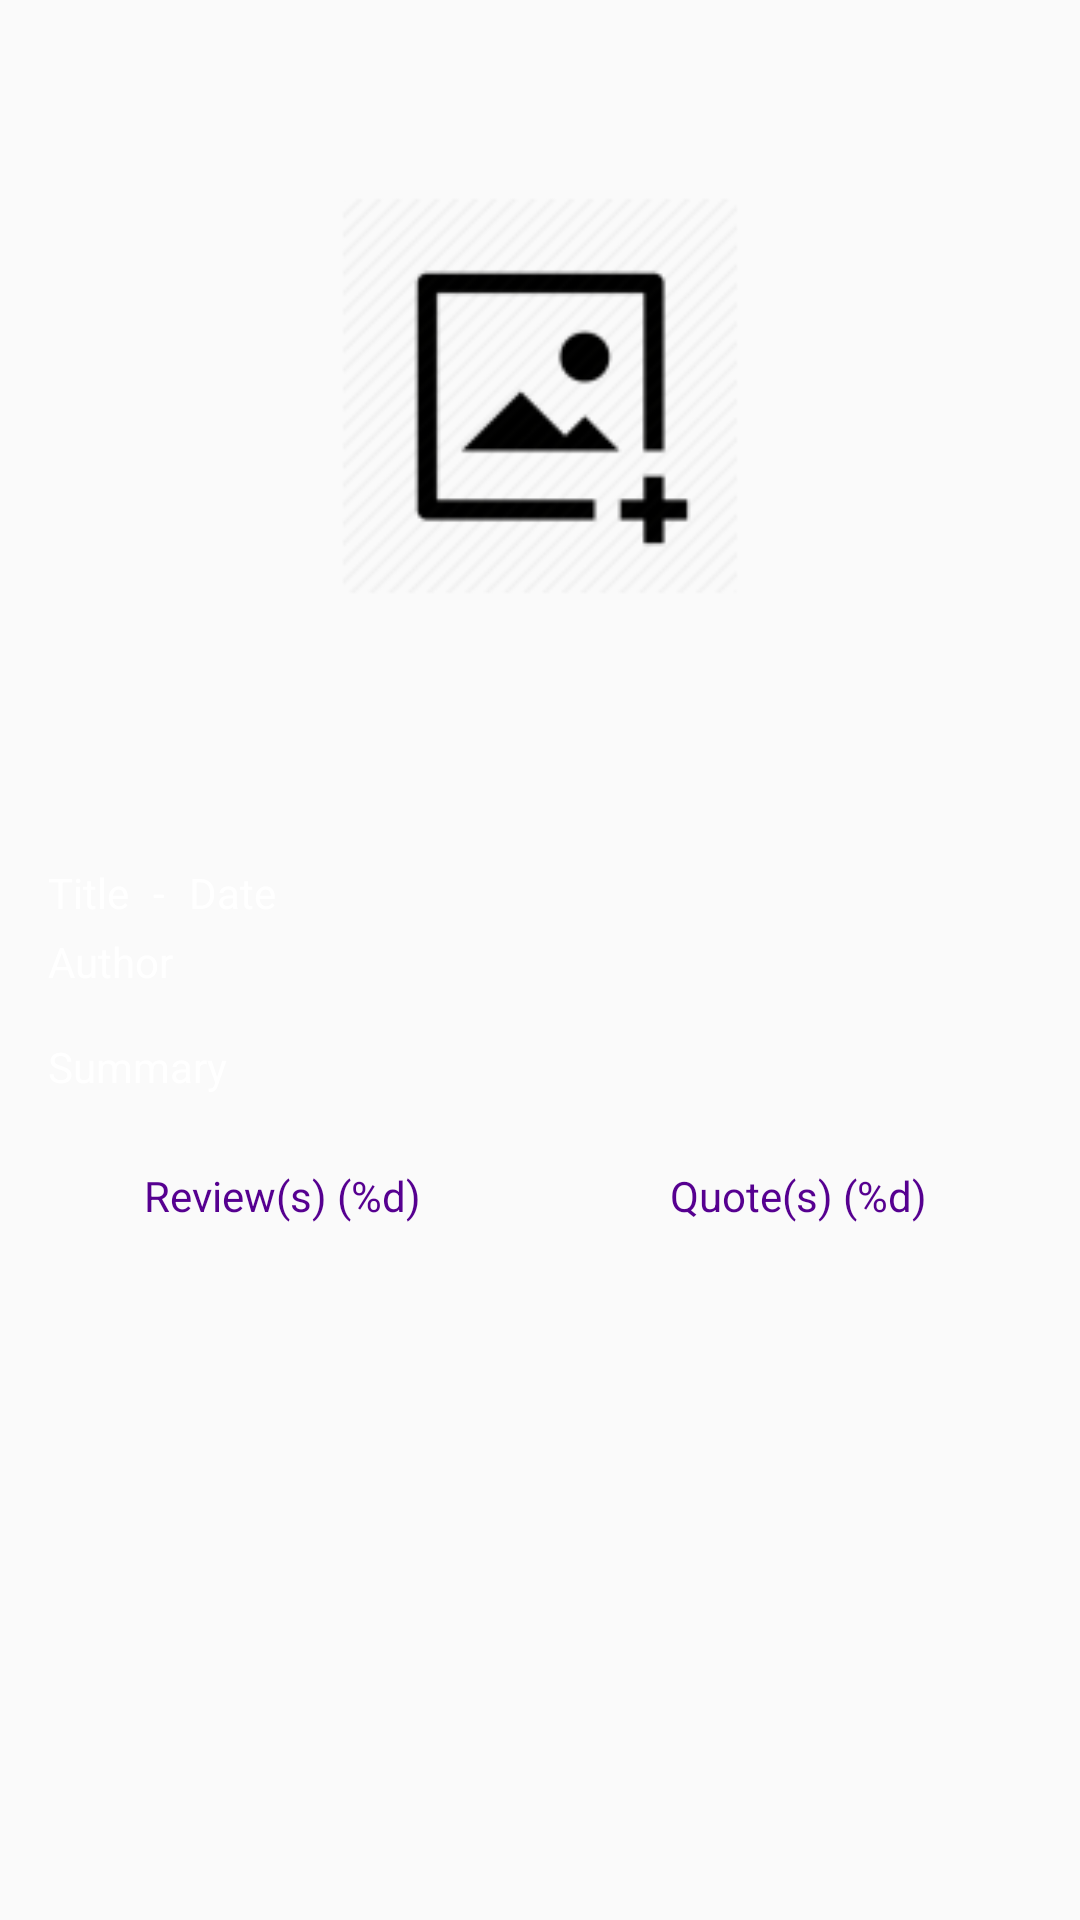

Icon bounding boxes for this 1080px x 1920px phone screenshot, format (x1, y1, x2, y2):
add photo: (414, 270, 690, 546)
